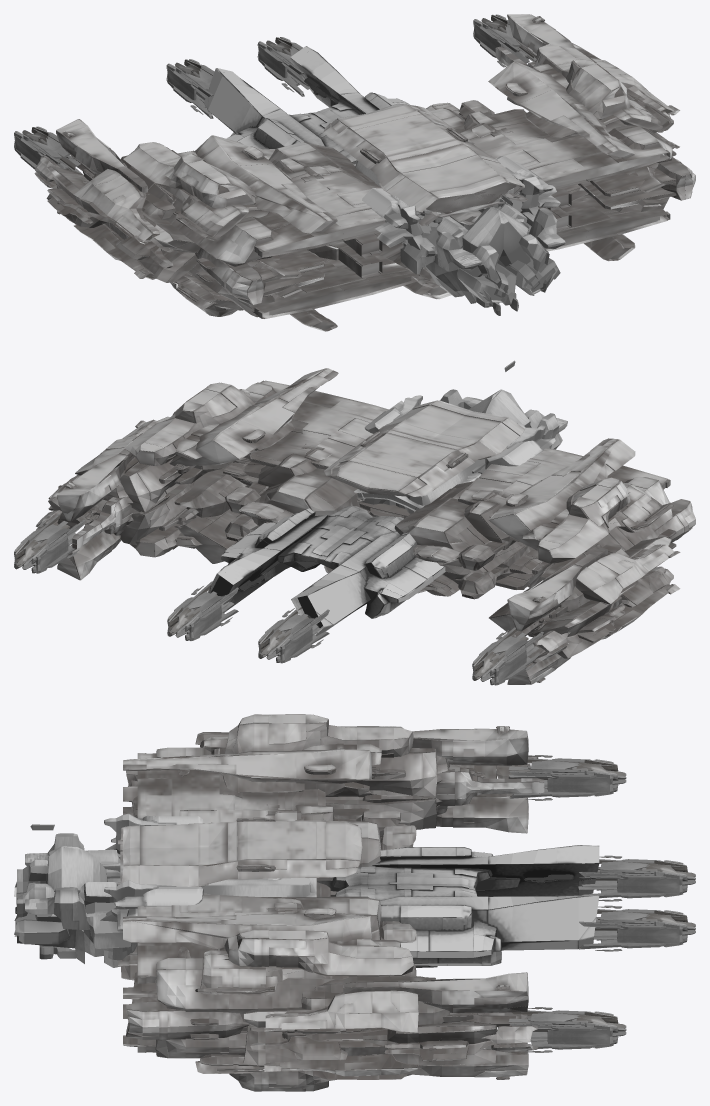
The model's file is DREADNOUGHT_002.fbx.
3 renders of one model, top to bottom at view 1: azimuth 30°, elevation 25°; view 2: azimuth 150°, elevation 25°; view 3: azimuth 270°, elevation 25°, orthographic. The views are drawn at different scales.
Visible parts, largest first — view 1: DREADNOUGHT_002; view 2: DREADNOUGHT_002; view 3: DREADNOUGHT_002.
Part boxes in pixels (x1=…): DREADNOUGHT_002: x1=14, y1=14, x2=695, y2=331; DREADNOUGHT_002: x1=14, y1=360, x2=695, y2=685; DREADNOUGHT_002: x1=14, y1=714, x2=695, y2=1091.
Size of the model in its own units: 133 by 31.42 by 126.
